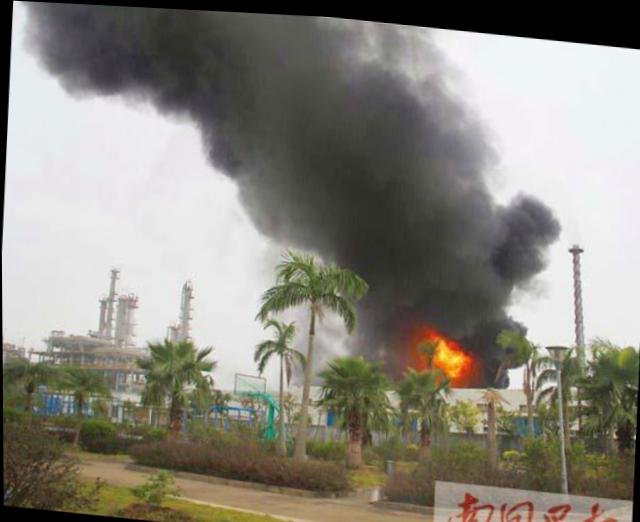fire: (425, 321, 472, 378)
